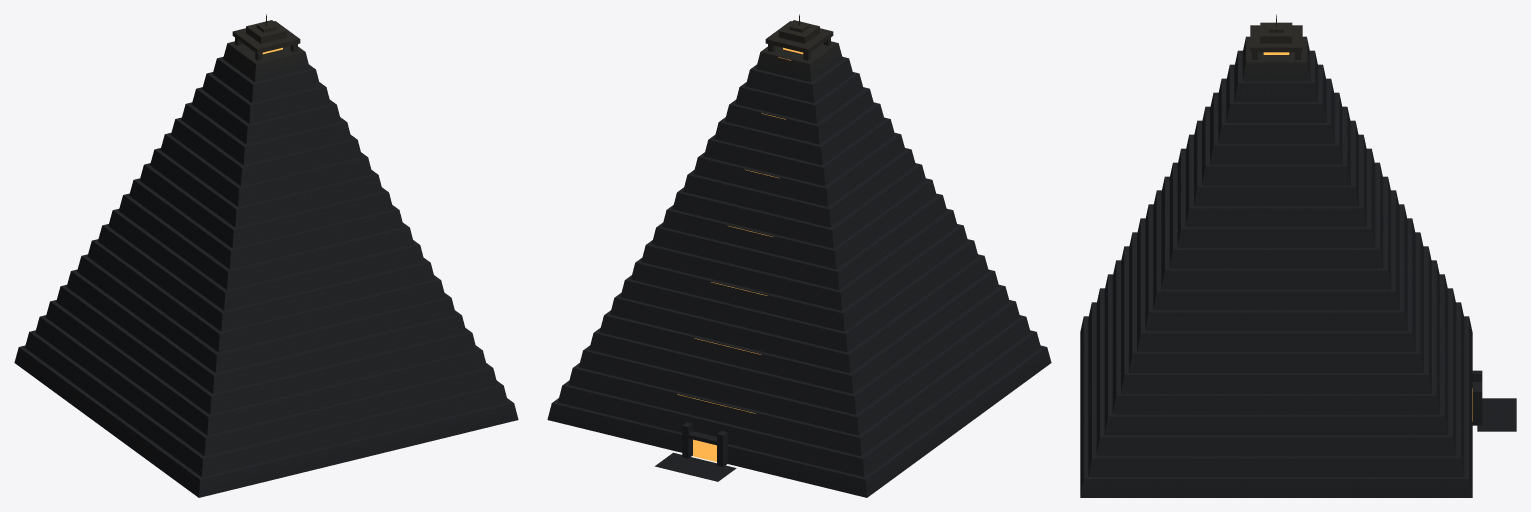
Rendered from wallace-medium.glb.
3 views of the same model, side by side, from view 1: azimuth 30°, elevation 25°; view 2: azimuth 150°, elevation 25°; view 3: azimuth 270°, elevation 25° (orthographic). The views are drawn at different scales.
Visible parts, largest first — view 1: frustum-0; view 2: frustum-0; view 3: frustum-0.
Boxes of the visible parts, bbox=[...] form: frustum-0: bbox=[14, 14, 518, 497]; frustum-0: bbox=[547, 14, 1051, 497]; frustum-0: bbox=[1080, 14, 1516, 497].
Size of the model in its own units: 3200 by 3610 by 3560.
3 materials, 1 textured.
